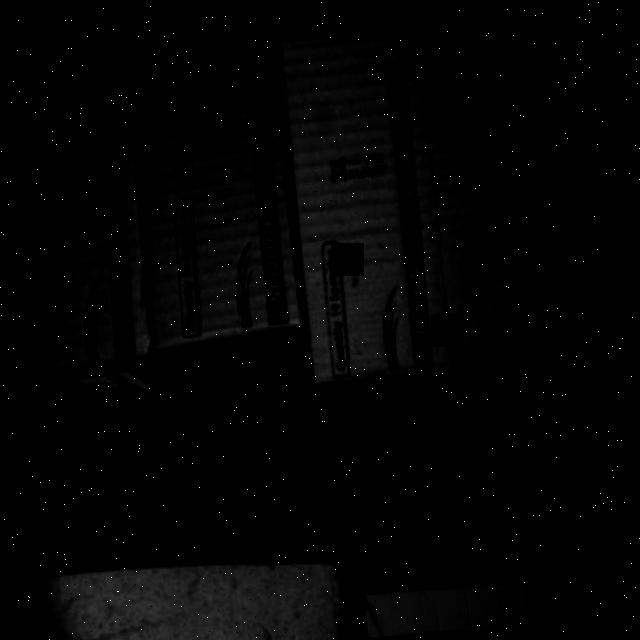box: (278, 26, 447, 386), (424, 6, 576, 357), (138, 17, 300, 346), (0, 35, 151, 370)
